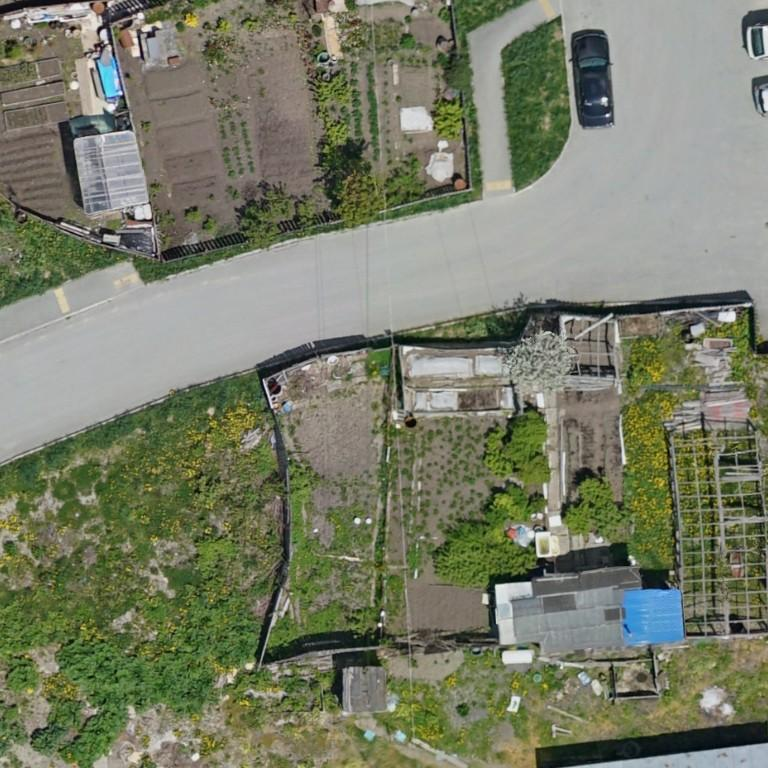hogweed: (56, 591, 262, 767), (31, 699, 85, 754), (5, 657, 39, 692)
